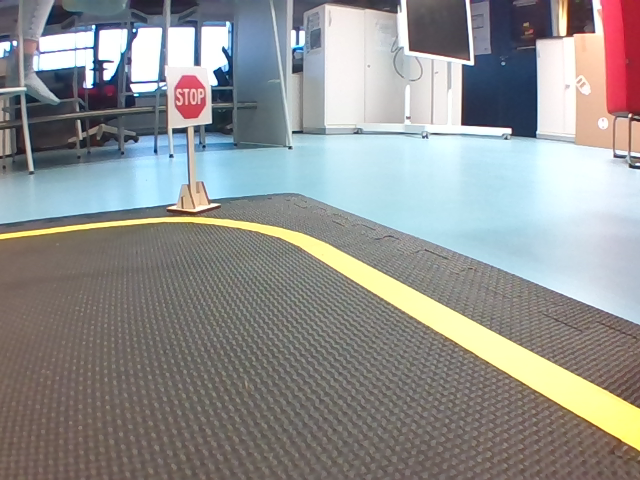stop: (167, 68, 211, 125)
